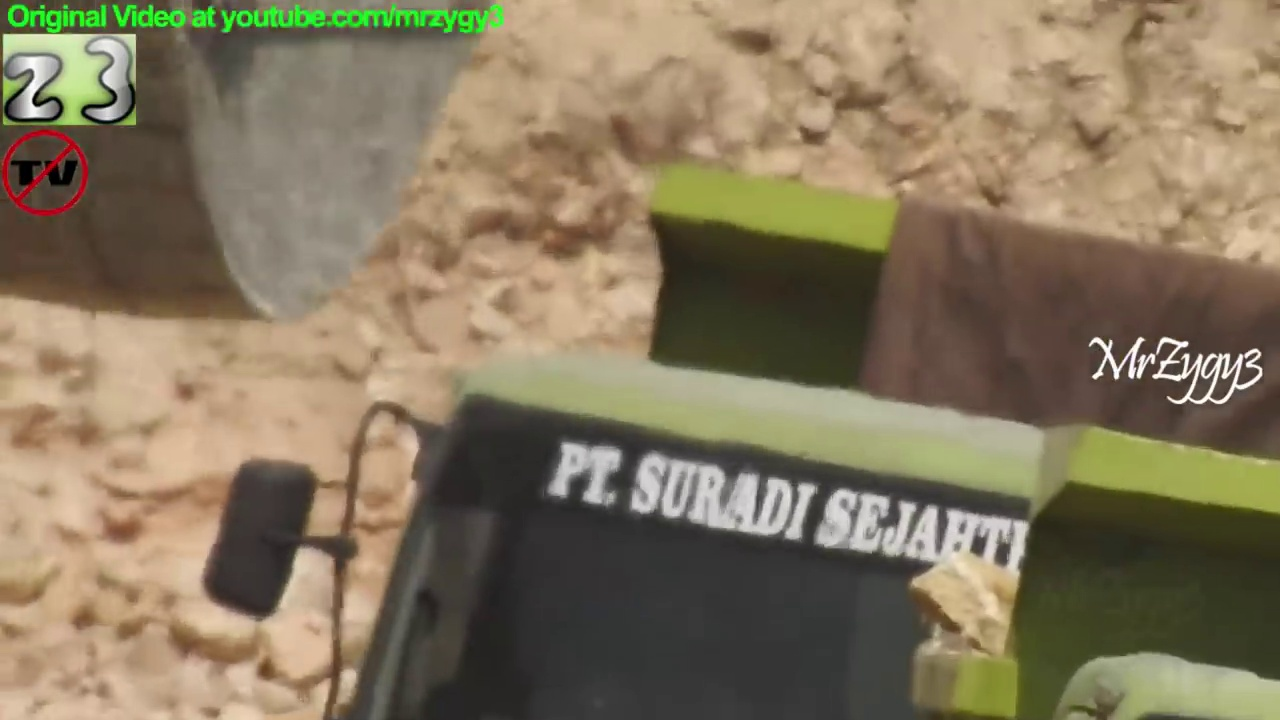truck: (198, 155, 1280, 720)
